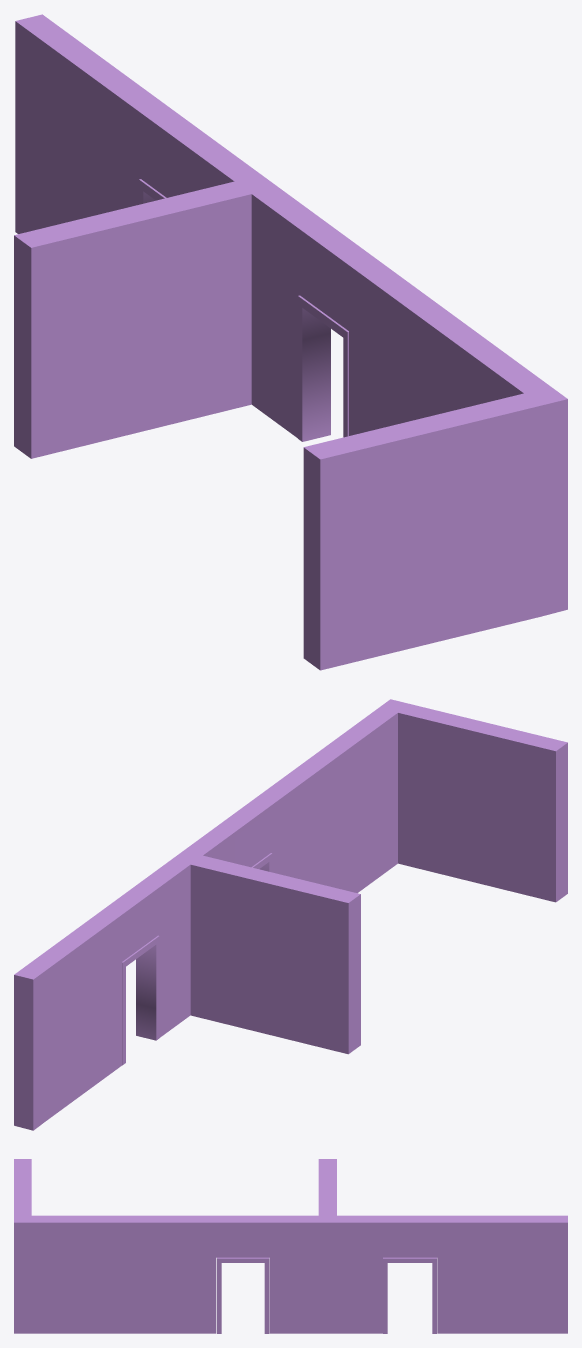
File: ParedeDLow.fbx
The picture shows the model from 3 angles, top to bottom: view 1: azimuth 30°, elevation 25°; view 2: azimuth 150°, elevation 25°; view 3: azimuth 270°, elevation 25°; orthographic projection. The views are drawn at different scales.
Visible parts, largest first — view 1: Cube.053; view 2: Cube.053; view 3: Cube.053.
Part boxes in pixels (x1,y1,x2,y2): Cube.053: (14,14,567,670); Cube.053: (14,699,567,1130); Cube.053: (14,1159,567,1333).
Size of the model in its own units: 543 by 441 by 1989.
